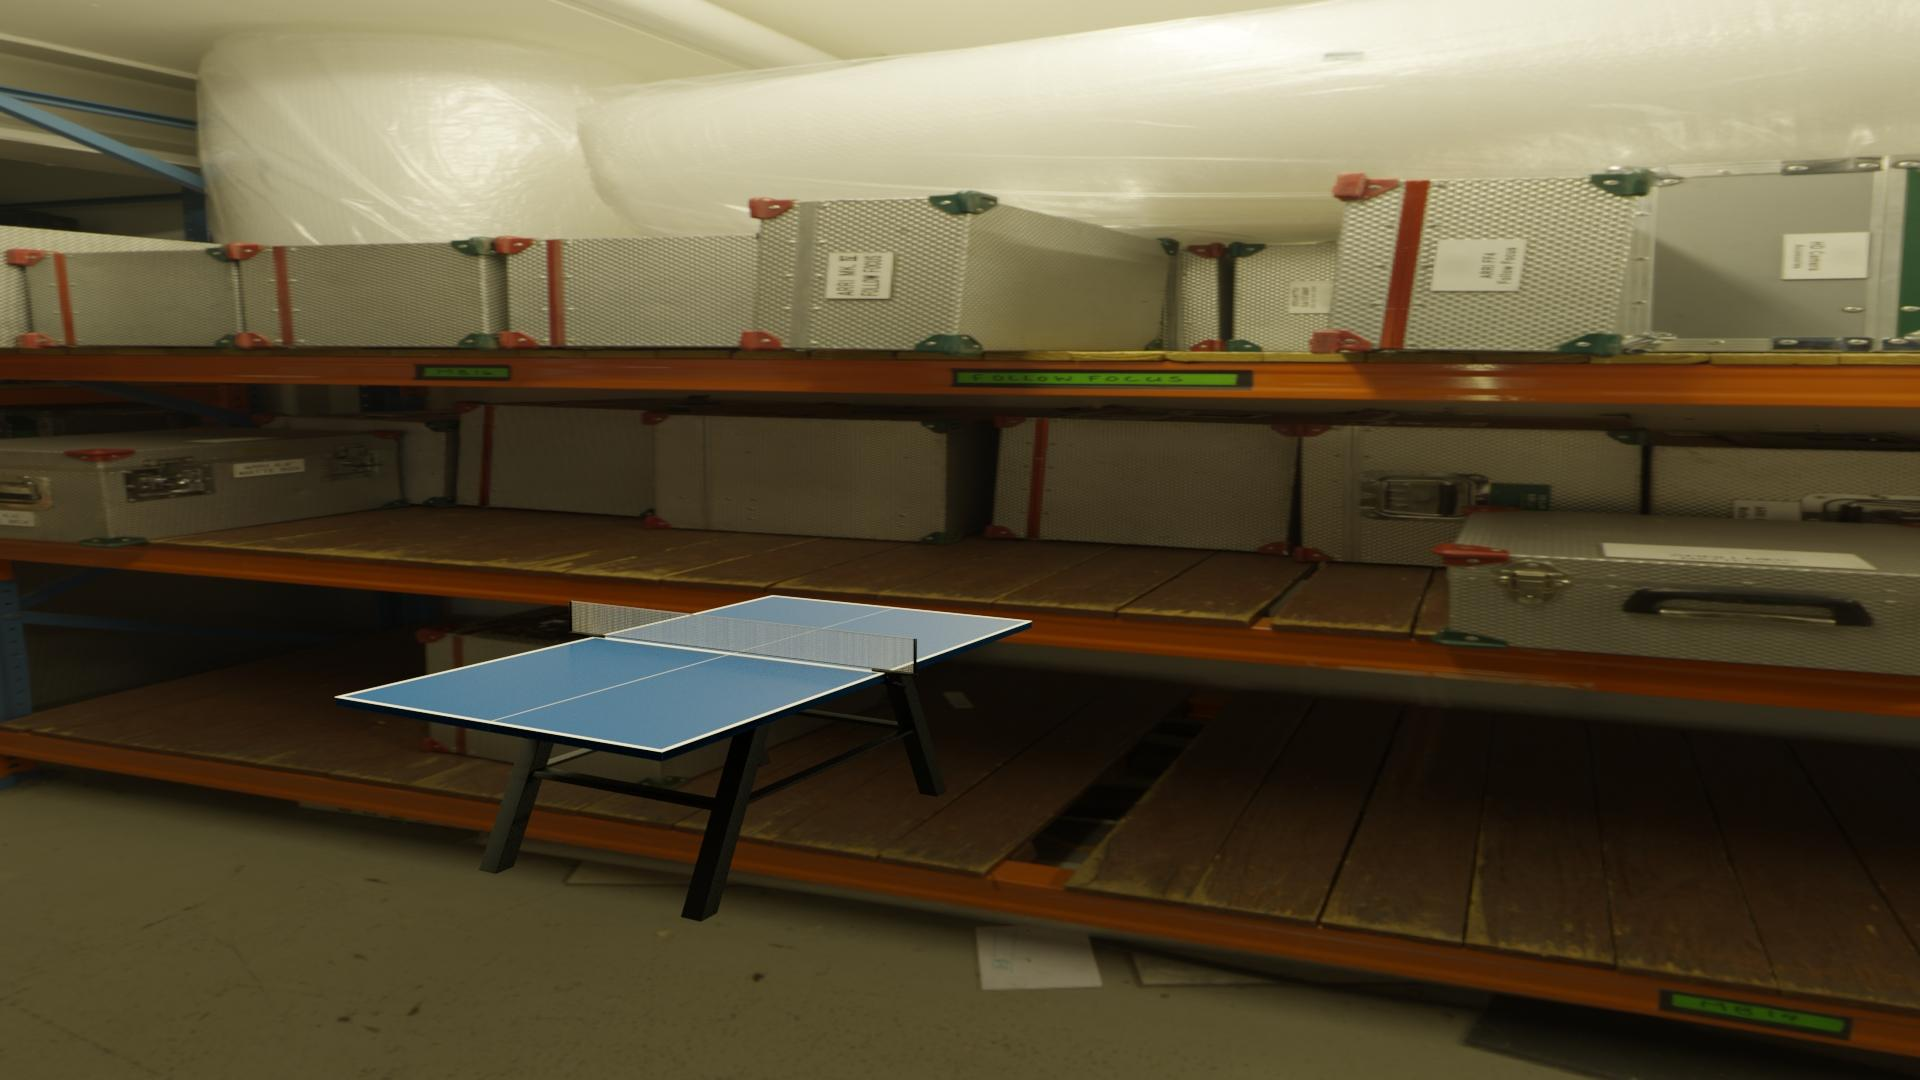table: (343, 596, 1027, 750)
